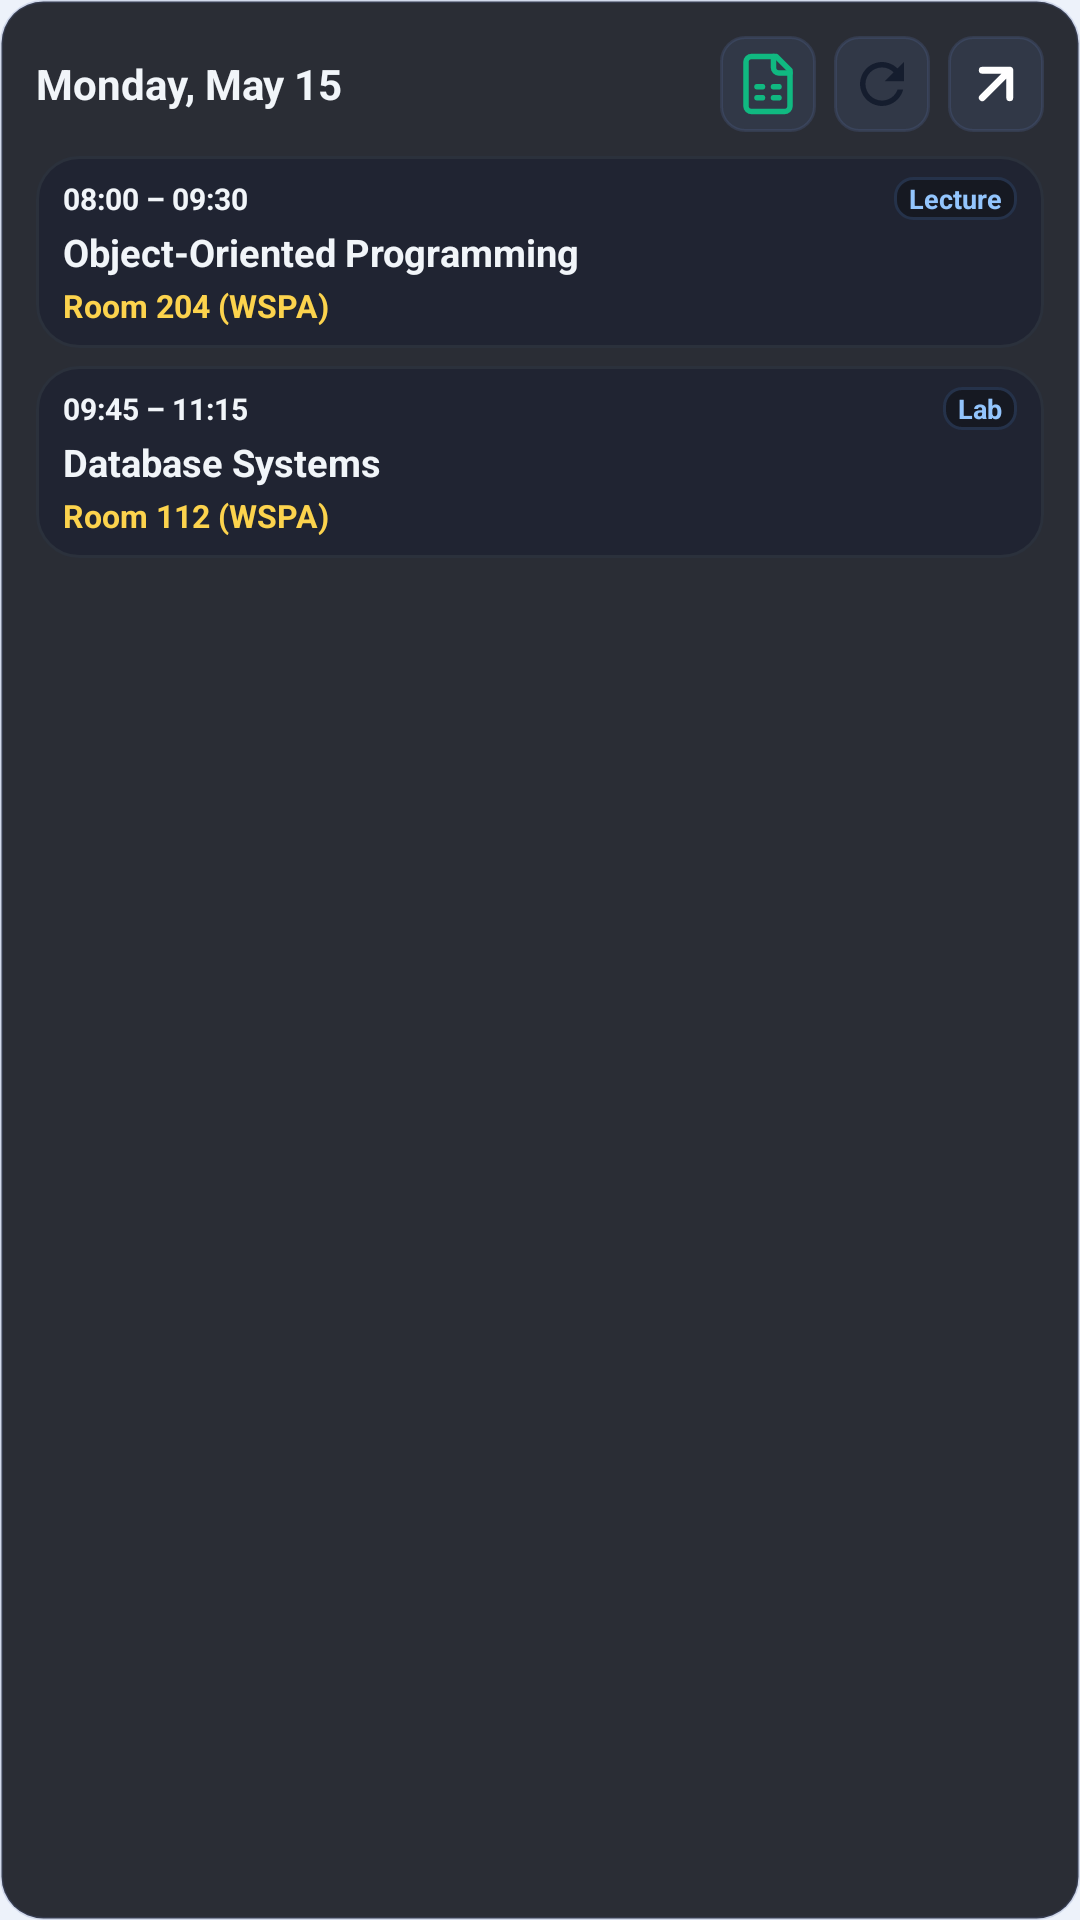

Named icons in this screenshot (1080×1920) and their centers, point (x, y):
file excel: point (768, 84)
Open schedule in app: point (996, 84)
Refresh schedule: point (882, 84)
